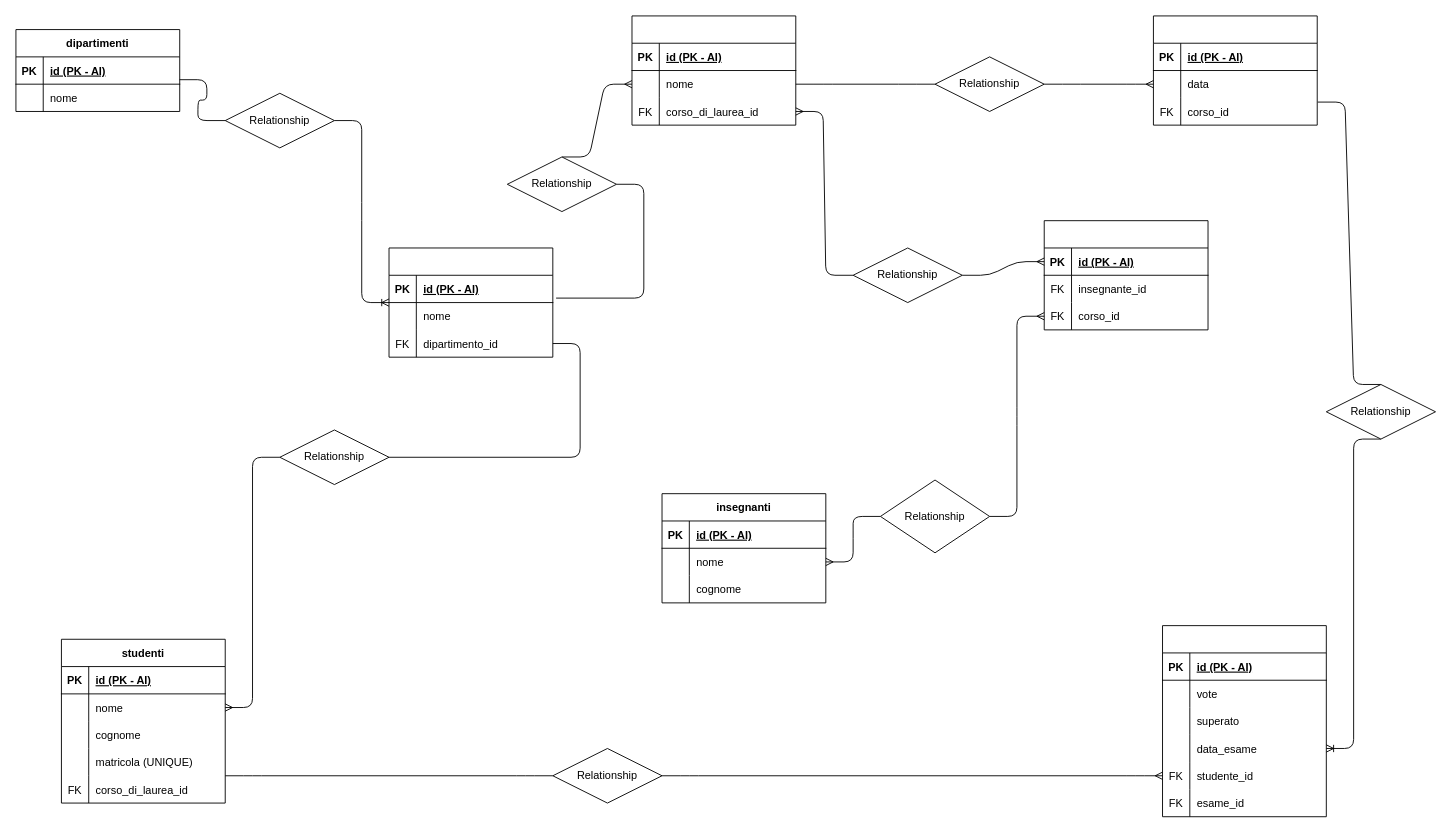
This 1451x833 diagram has some shape labels left out. The shapes that lost their labels are listed below. From the top down, each one's box as (x1, y1, x2, y2) in pixels, then its label:
(631, 15, 796, 125): corsi
(1153, 15, 1317, 125): esami
(1043, 220, 1208, 330): insegnamenti
(388, 247, 553, 357): corsi_di_laurea
(1162, 625, 1326, 817): appelli
